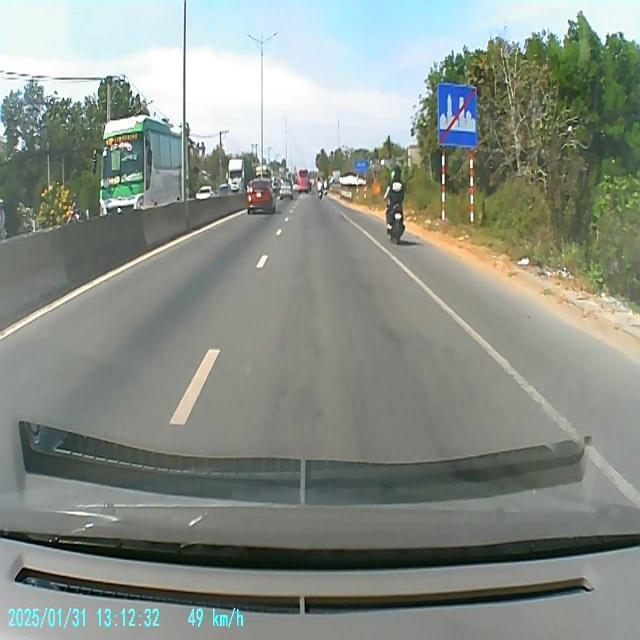421-ket-thuc-khu-dong-dan-cu: (438, 80, 478, 148)
